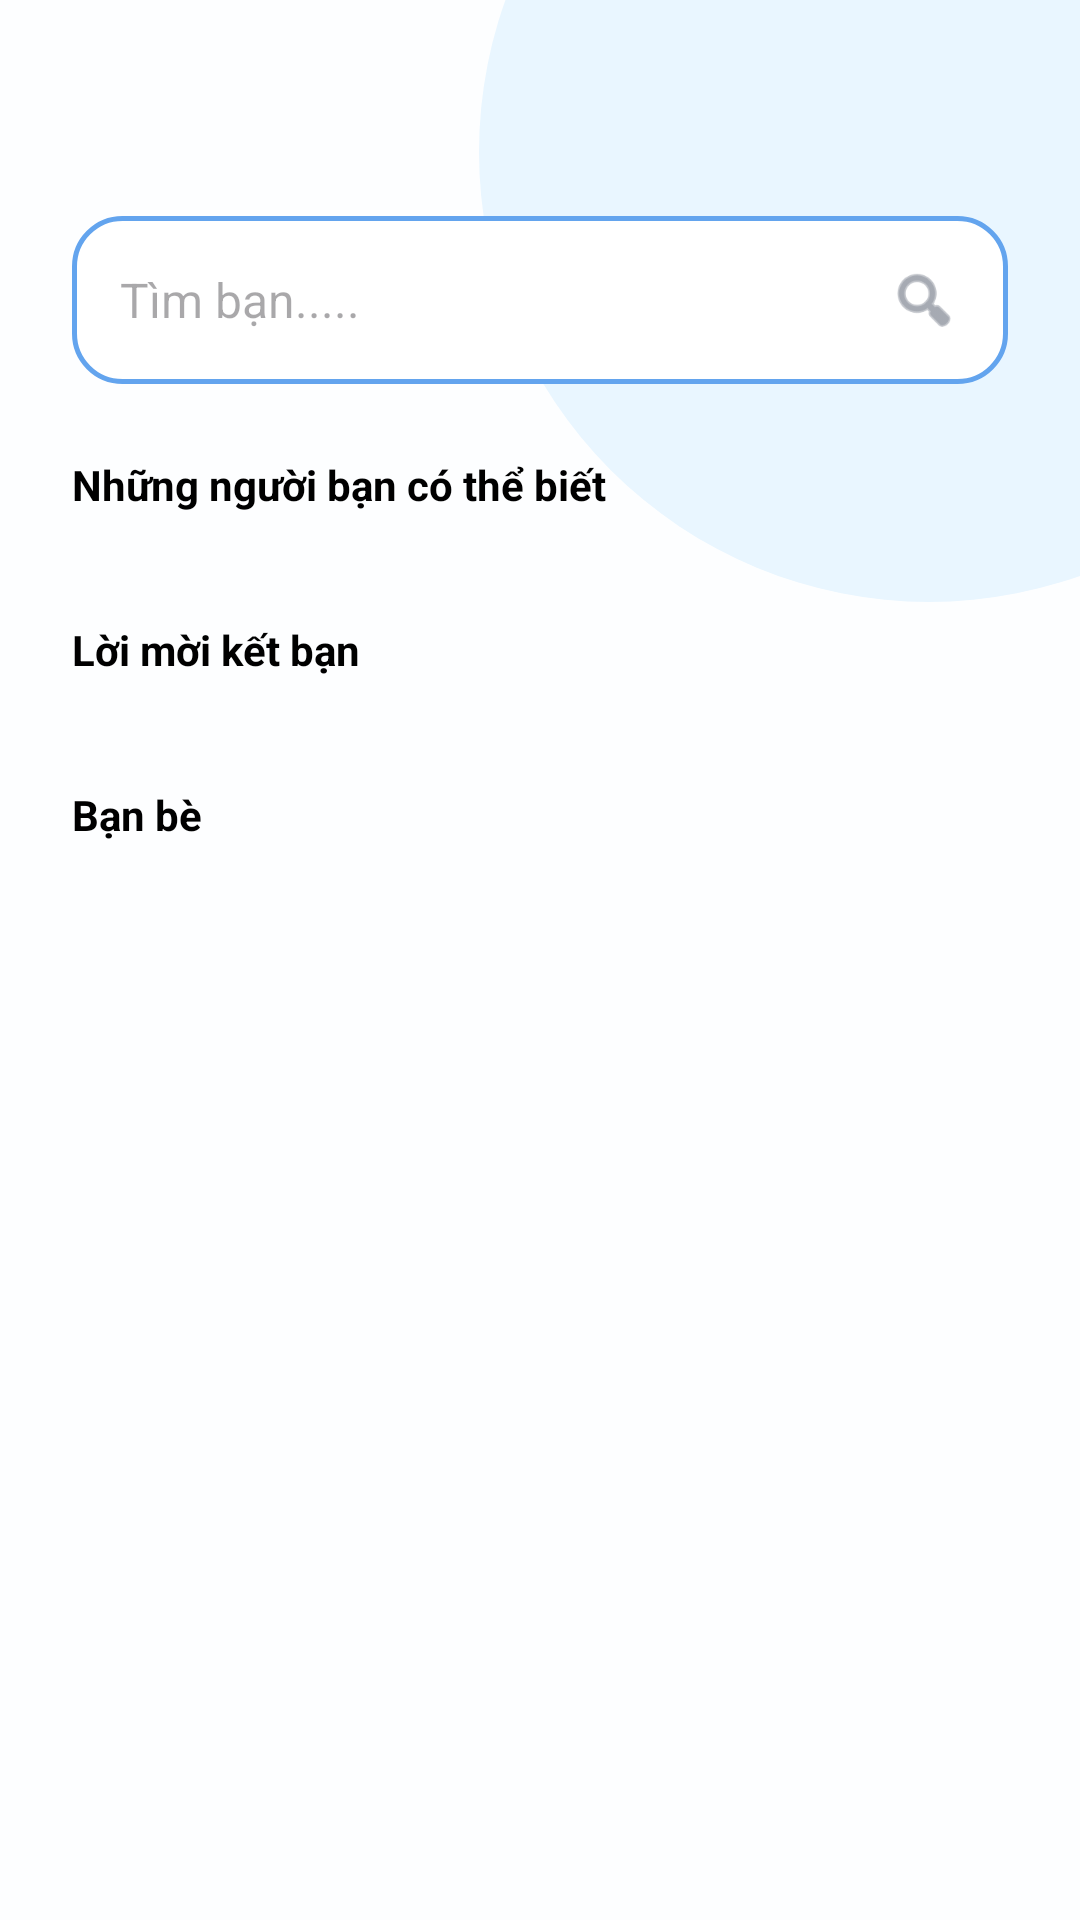

Icon click points for this 1080px×1920px phone screenshot, format point (x, y):
search: point (924, 300)
